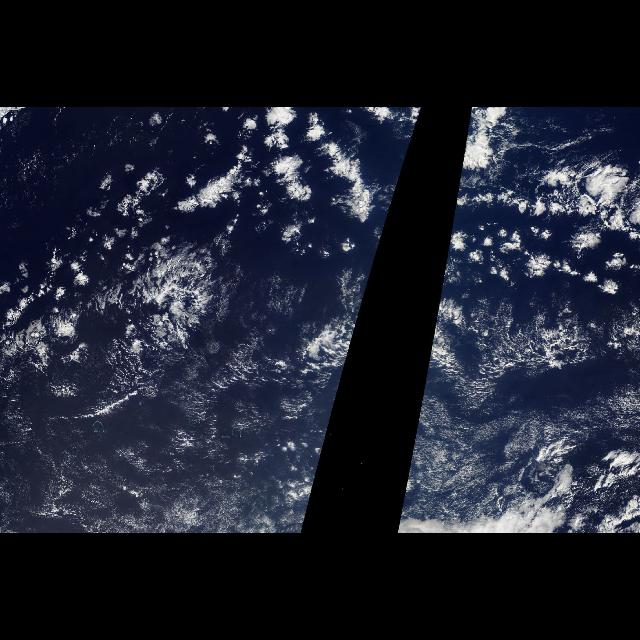Flower: (1, 110, 422, 384), (422, 110, 634, 384)
Sugar: (10, 298, 364, 530), (398, 298, 638, 530)
